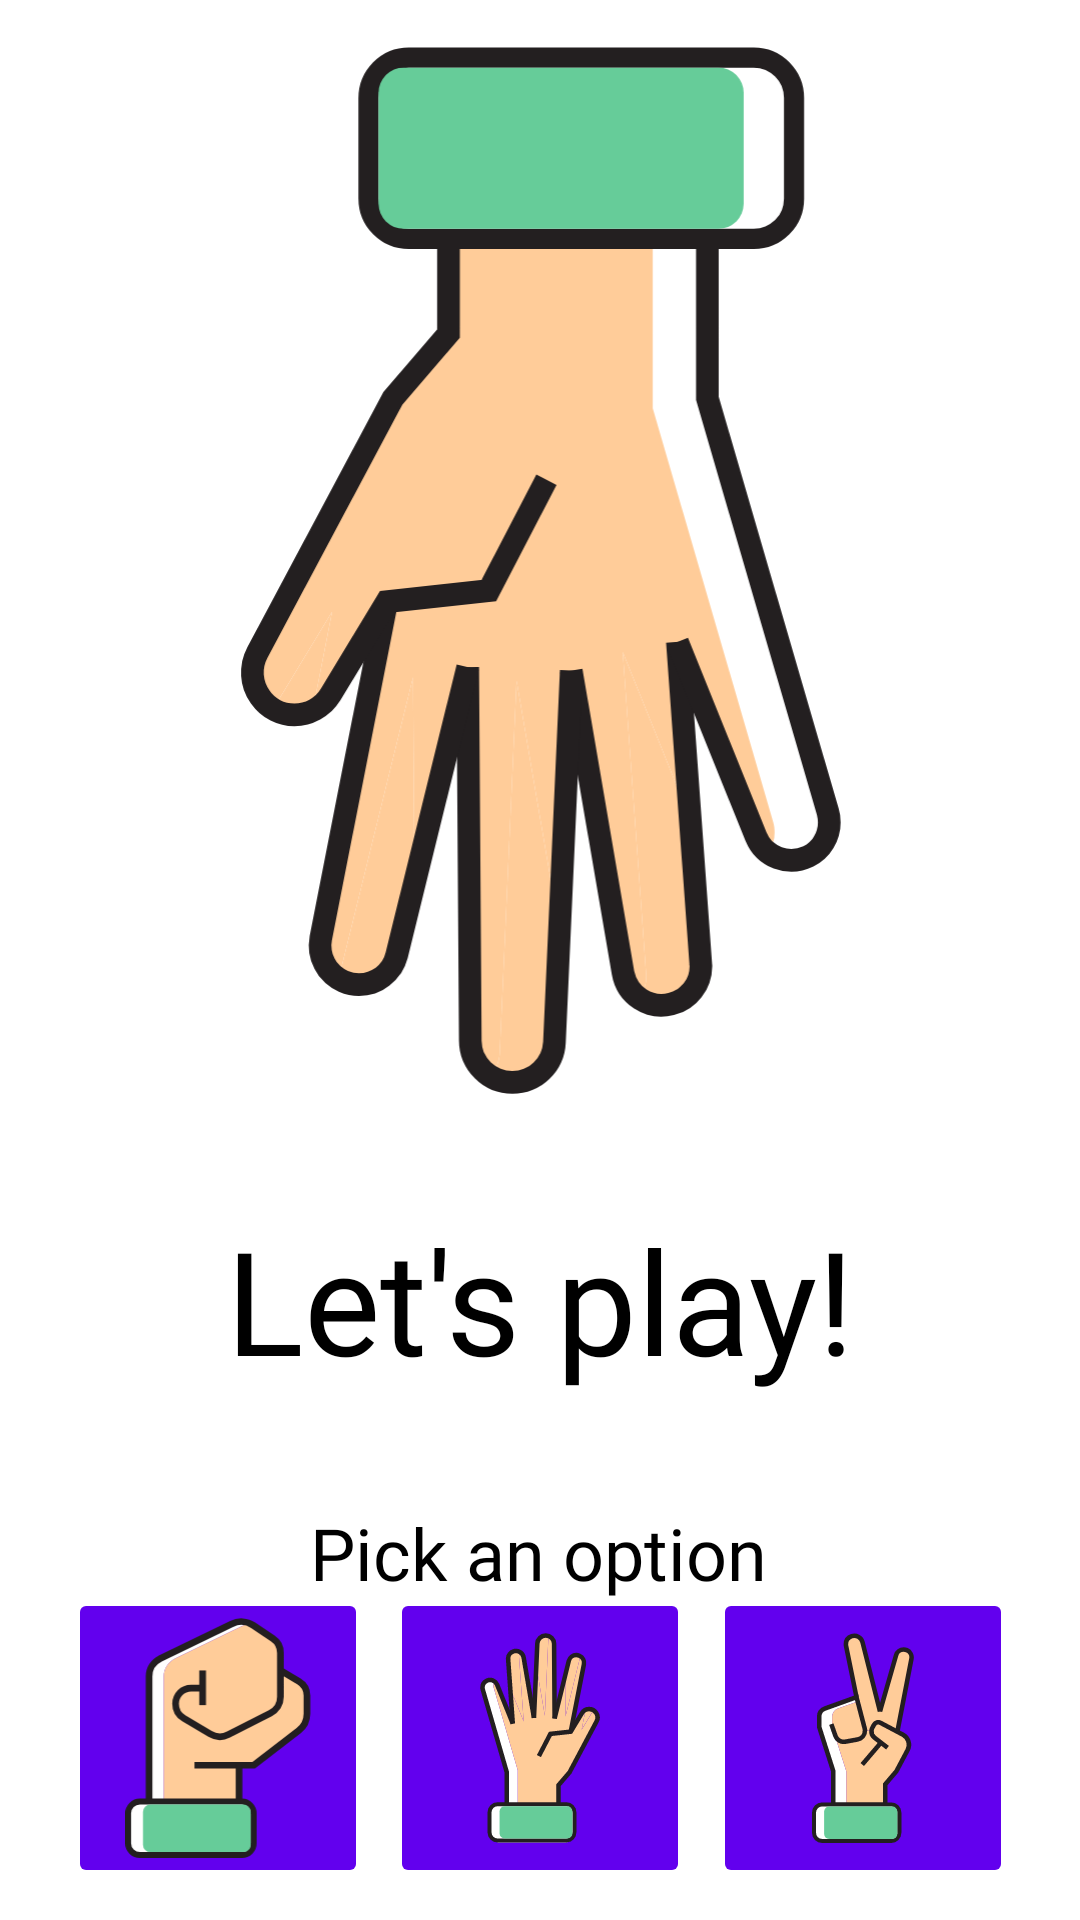

Locate icon controls on the screen. Image size 1080px x 1920px, boxes as (x1=x1, y1=y1, x2=x2, y2=y2).
Rock hand: (x1=80, y1=1606, x2=356, y2=1870)
Scissors hand: (x1=725, y1=1606, x2=1001, y2=1870)
